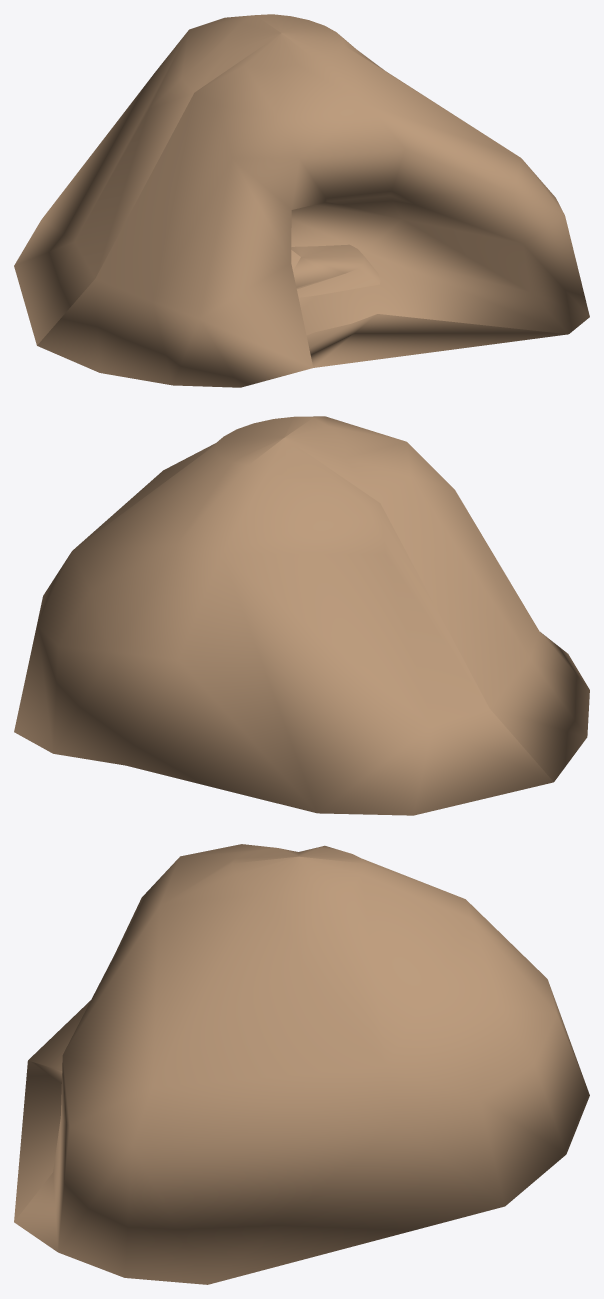
File: cave_small_optimized60.glb
The picture shows the model from 3 angles, top to bottom: view 1: azimuth 30°, elevation 25°; view 2: azimuth 150°, elevation 25°; view 3: azimuth 270°, elevation 25°; orthographic projection. The views are drawn at different scales.
Parts seen in each view (by area): view 1: CombinedMesh_MaterialSlots; view 2: CombinedMesh_MaterialSlots; view 3: CombinedMesh_MaterialSlots.
Part boxes in pixels (<box>): CombinedMesh_MaterialSlots: <box>14,14,589,387</box>; CombinedMesh_MaterialSlots: <box>14,416,589,815</box>; CombinedMesh_MaterialSlots: <box>14,844,589,1284</box>.
Size of the model in its own units: 2.05 by 1.11 by 1.92.
